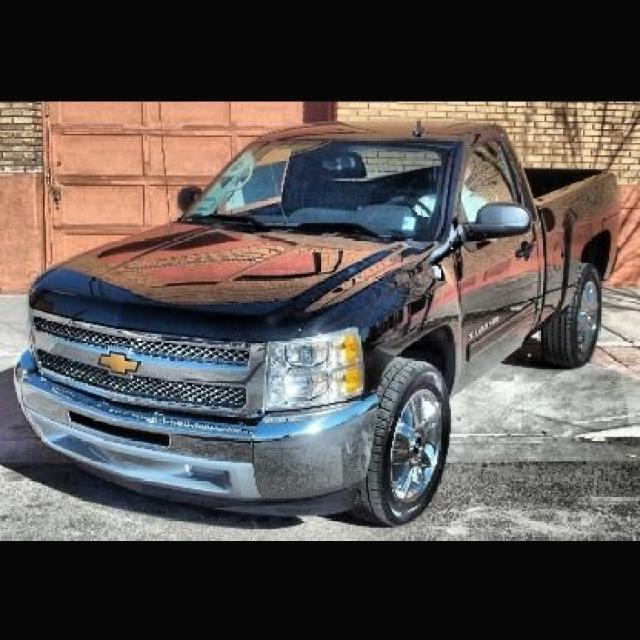black: (0, 137, 616, 487)
